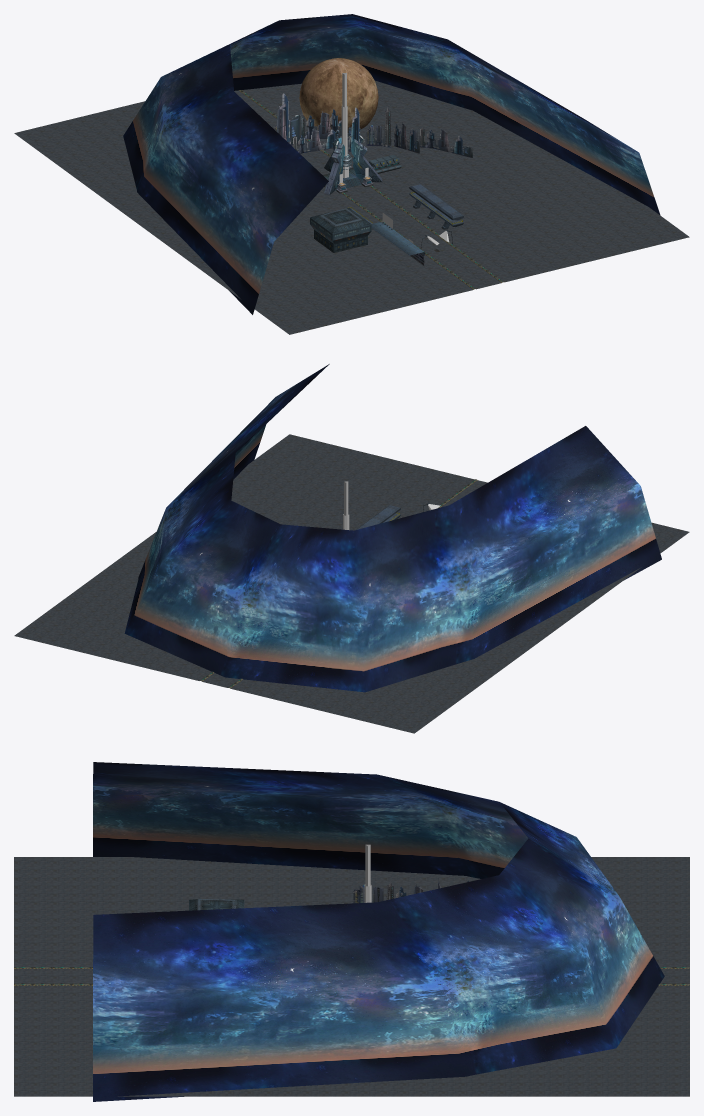
The model's file is ts_swxcj002.FBX.
3 views of the same model, one above another, from view 1: azimuth 30°, elevation 25°; view 2: azimuth 150°, elevation 25°; view 3: azimuth 270°, elevation 25° (orthographic). The views are drawn at different scales.
Visible parts, largest first — view 1: ts_swsfloor001, ts_swssky001, ts_swsbuilding006, ts_swssky002, ts_swsbuid001, ts_swsbuilding005, ts_swsbuilding002, ts_swsbuilding001, ts_swsbuilding004, ts_swsbbd003, ts_swsdgow005, ts_swsbbd001; view 2: ts_swssky001, ts_swsfloor001; view 3: ts_swssky001, ts_swsfloor001, ts_swsbuilding006, ts_swsbuid001, ts_swsbuilding002.
Part boxes in pixels (bbox=[...]): ts_swsfloor001: bbox=[14, 80, 689, 334]; ts_swssky001: bbox=[123, 14, 660, 314]; ts_swsbuilding006: bbox=[274, 93, 472, 157]; ts_swssky002: bbox=[299, 58, 378, 132]; ts_swsbuid001: bbox=[310, 208, 371, 252]; ts_swsbuilding005: bbox=[324, 138, 382, 195]; ts_swsbuilding002: bbox=[239, 90, 503, 289]; ts_swsbuilding001: bbox=[323, 154, 401, 193]; ts_swsbuilding004: bbox=[371, 222, 425, 265]; ts_swsbbd003: bbox=[409, 184, 463, 220]; ts_swsdgow005: bbox=[341, 73, 348, 178]; ts_swsbbd001: bbox=[409, 192, 463, 229]; ts_swssky001: bbox=[124, 364, 661, 692]; ts_swsfloor001: bbox=[14, 434, 689, 733]; ts_swssky001: bbox=[93, 762, 664, 1101]; ts_swsfloor001: bbox=[14, 857, 689, 1096]; ts_swsbuilding006: bbox=[353, 878, 468, 903]; ts_swsbuid001: bbox=[189, 899, 244, 910]; ts_swsbuilding002: bbox=[14, 967, 689, 985].
Size of the model in its own units: 150 by 40.84 by 175.
